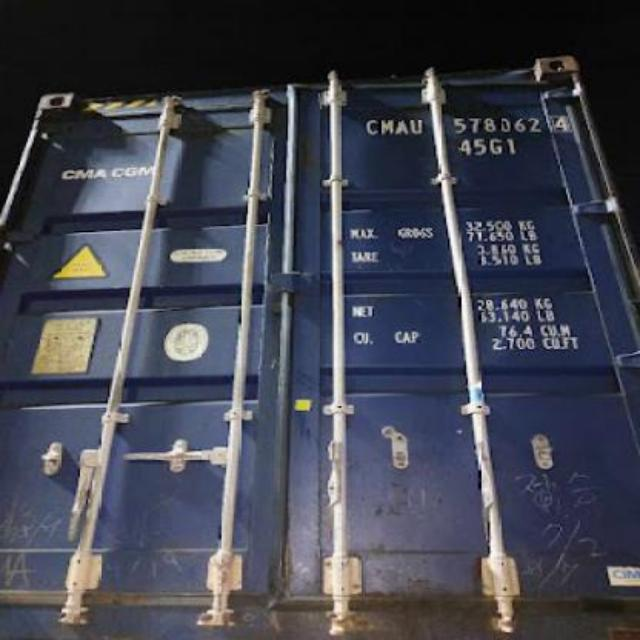0: (501, 117, 514, 133)
2: (528, 117, 546, 135)
4: (552, 116, 570, 132)
5: (452, 115, 468, 135)
6: (514, 117, 528, 135)
7: (468, 116, 482, 134)
8: (484, 117, 498, 135)
A: (396, 119, 409, 135)
C: (366, 119, 379, 137)
M: (380, 119, 396, 137)
U: (411, 119, 424, 135)
